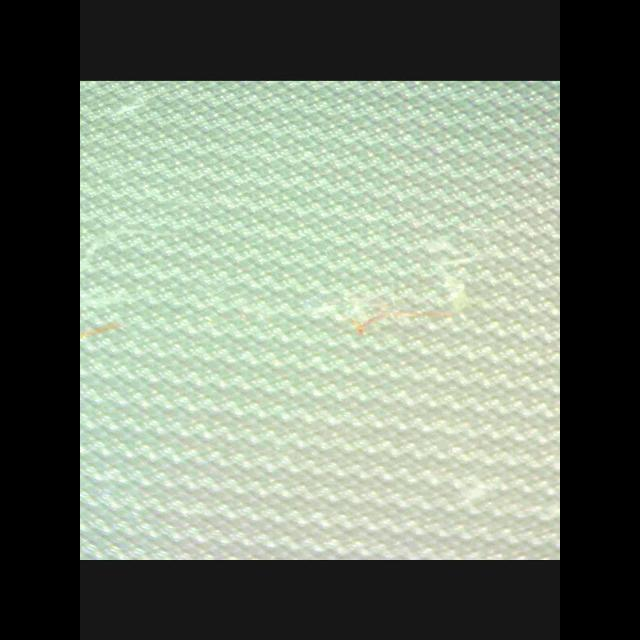Fibre: (306, 296, 472, 340), (80, 314, 130, 354)
